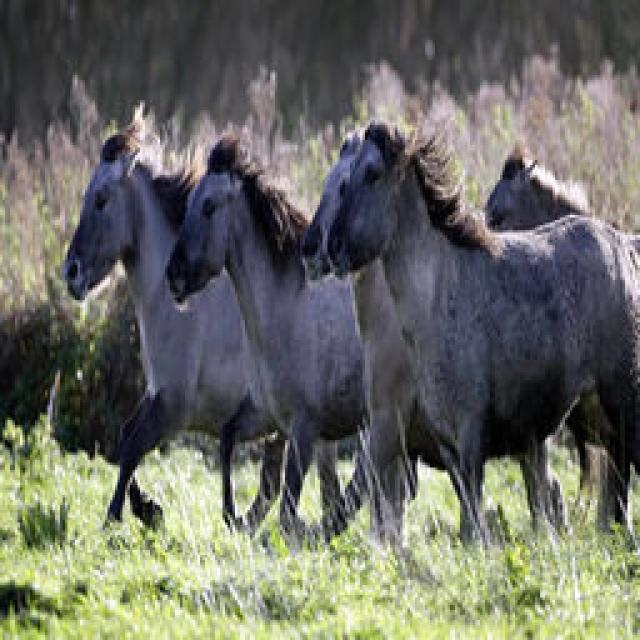not_pig: (300, 118, 638, 568), (60, 102, 362, 540), (166, 132, 390, 526), (480, 140, 638, 542), (308, 126, 448, 568)
